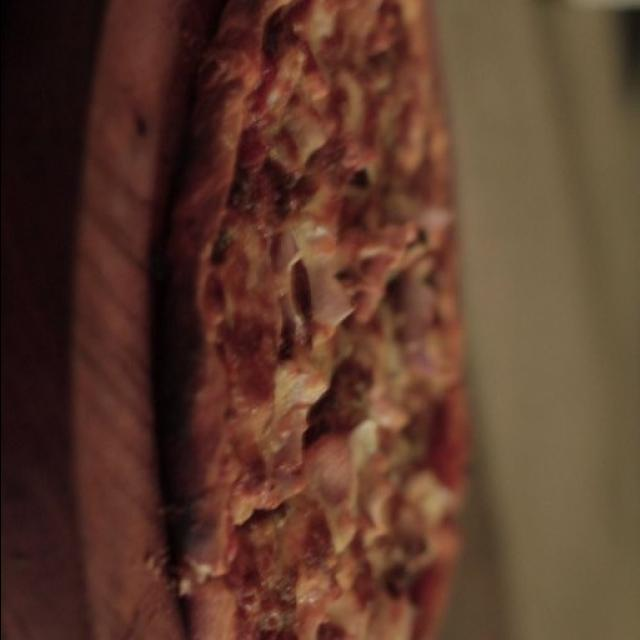pizza: (170, 0, 468, 640)
